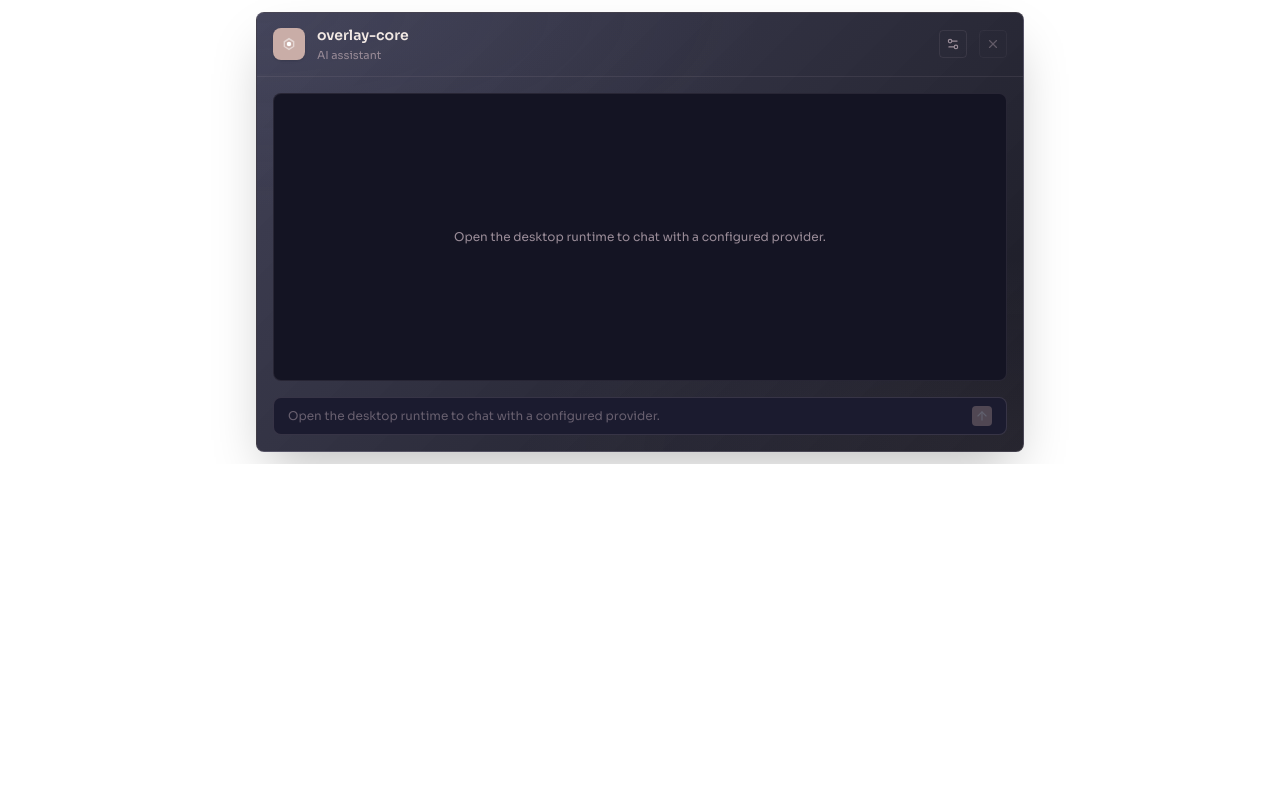
it: App › renders chat shell and settings modal flow
Expected: the button named "send" is disabled, [972, 406, 992, 426]
Expected: the text box named "message" is disabled, [288, 406, 964, 426]
What coordinates should you click on to do the following:
click the button named "settings"
I would click on:
 (953, 44)
Its box is [939, 30, 967, 58].
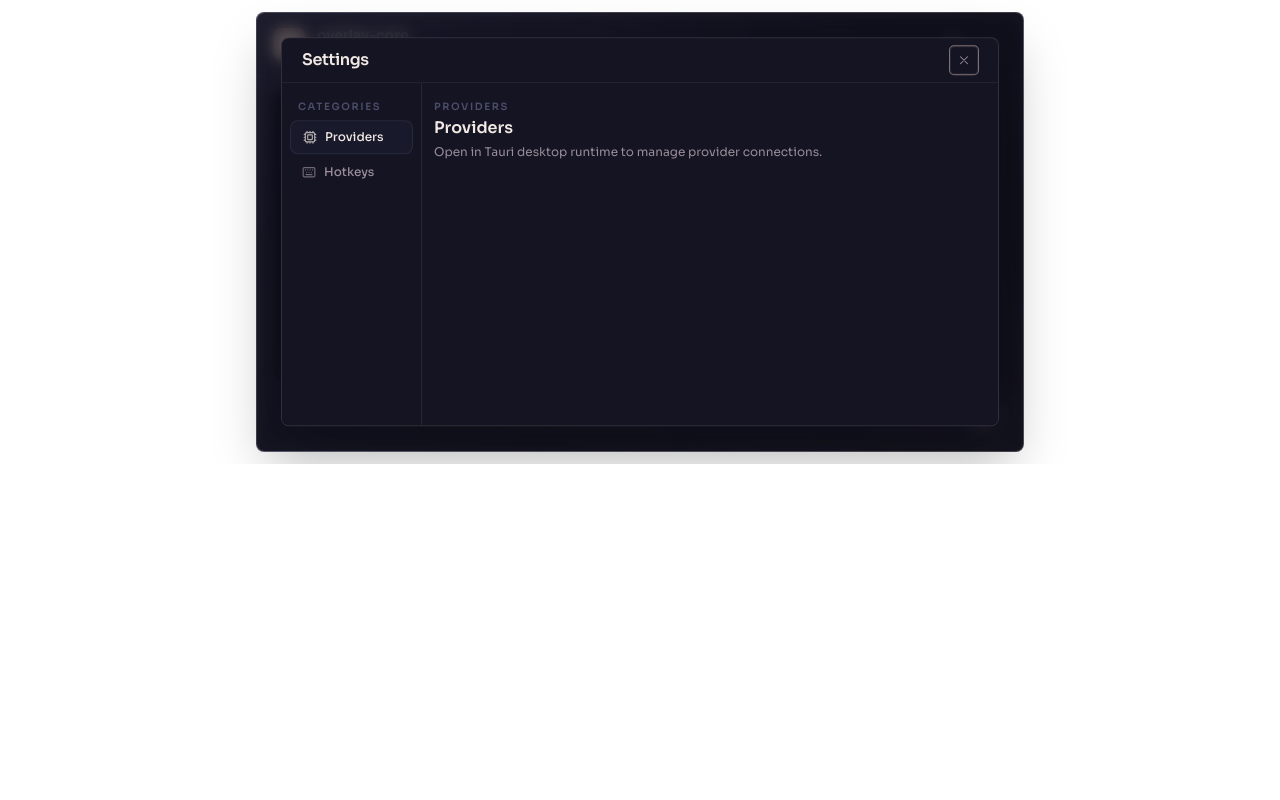
Now the dialog "Settings" is shown, box [281, 37, 999, 426]
Now the tab "Hotkeys" is shown
Now the tab "Providers" is shown, box [290, 120, 413, 154]
What coordinates should you click on to do the following:
click the tab "Hotkeys"
I would click on:
 (352, 172)
Its box is [290, 156, 413, 188].
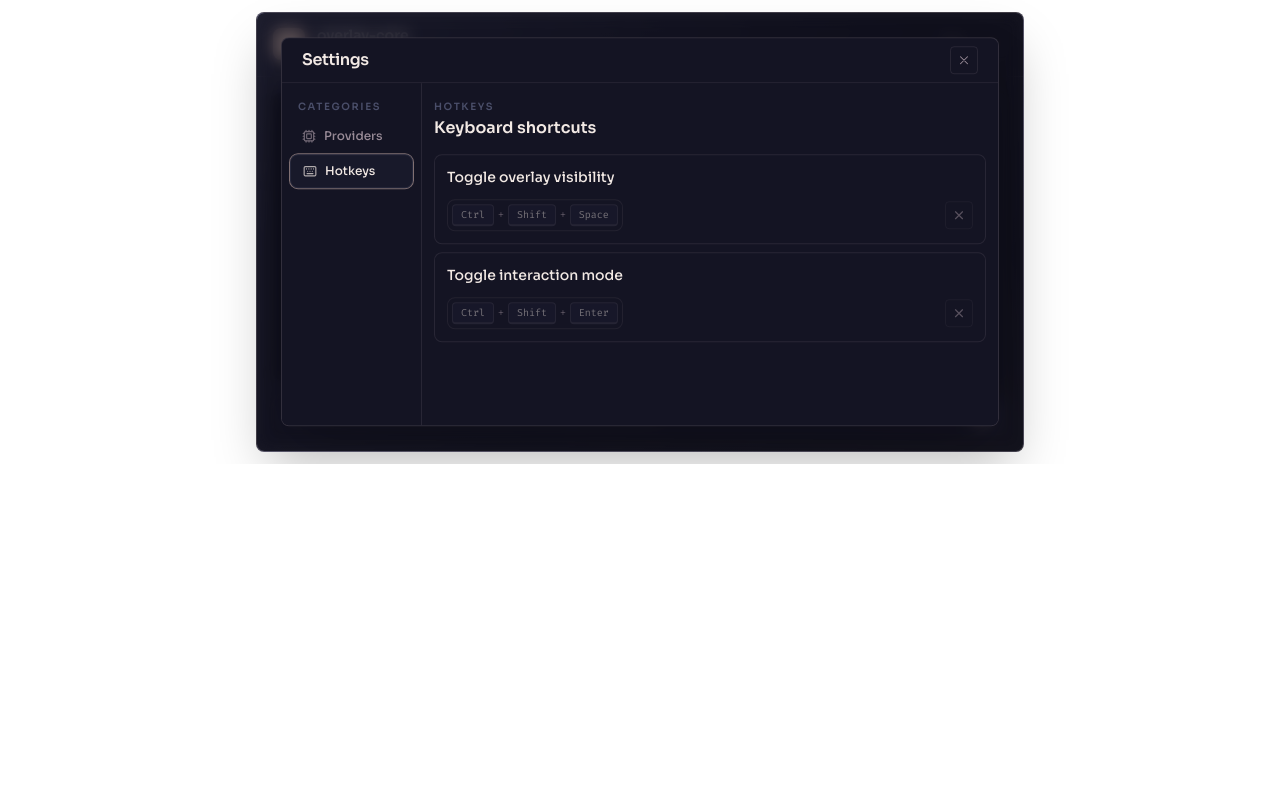
Now the text "Toggle overlay visibility" is shown, box [447, 168, 615, 186]
What coordinates should you click on to do the following:
click the tab "Providers"
I would click on:
 (352, 136)
Its box is [290, 120, 413, 152].
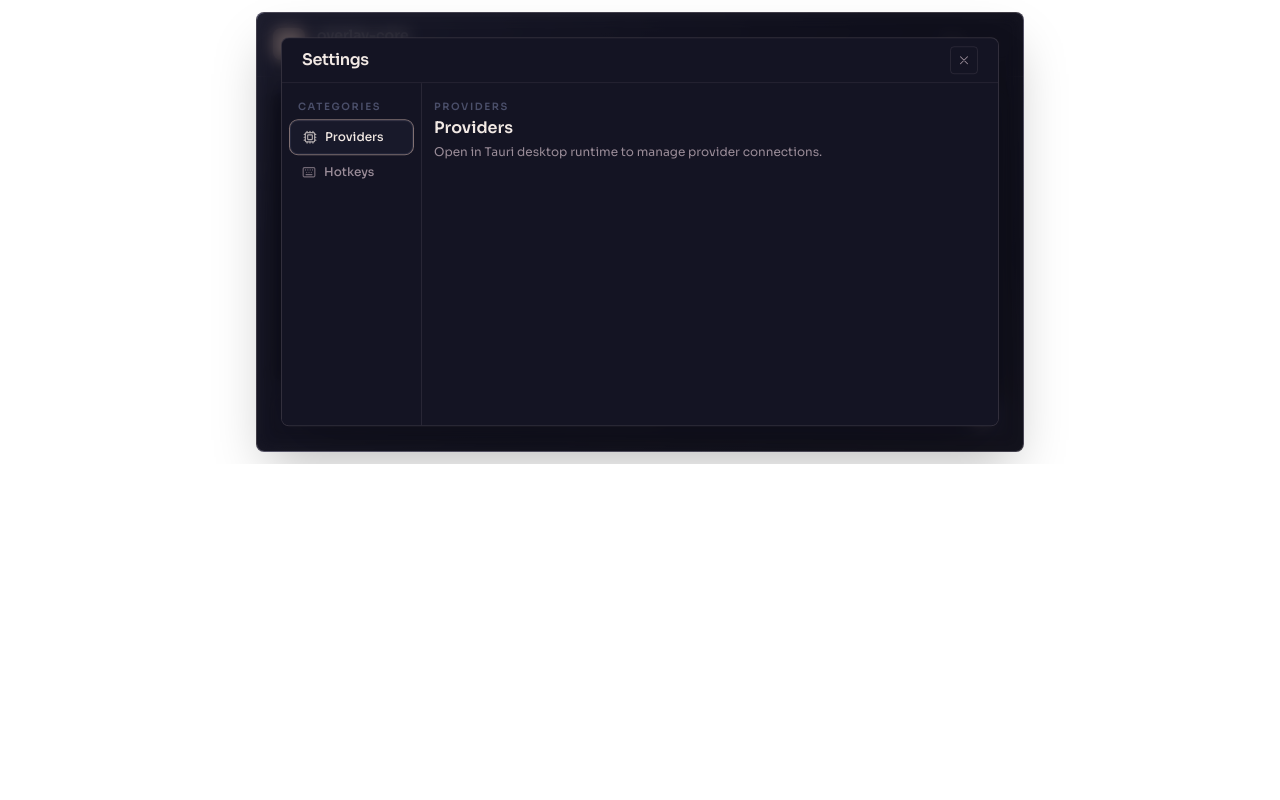
Now the heading "Providers" is shown, box [434, 117, 513, 138]
Now the text "Open in Tauri desktop runtime to manage provider connections" is shown, box [434, 144, 822, 159]
What coordinates should you click on to do the following:
click the button named "close"
I would click on:
 (964, 60)
Its box is [950, 46, 978, 74].
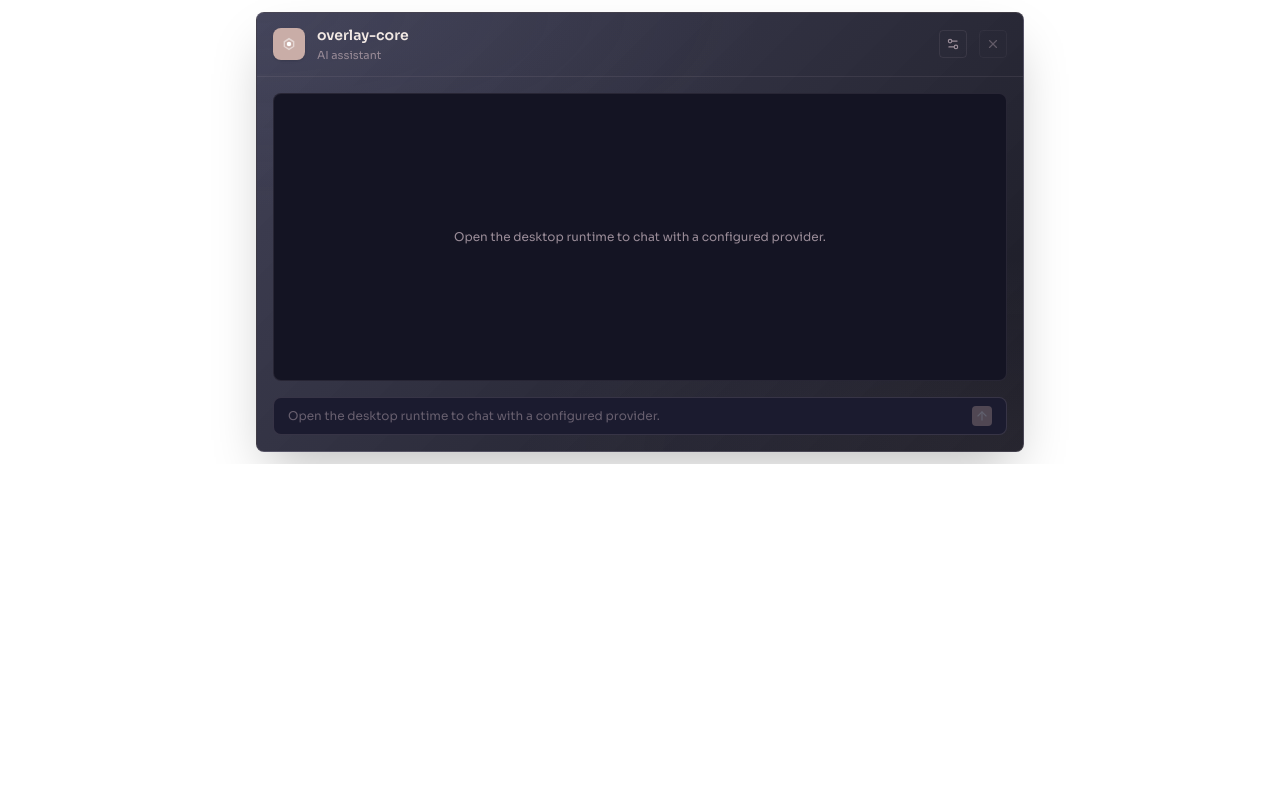
Now the heading "Settings" is gone
